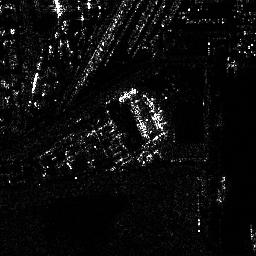ship: (216, 174, 228, 203)
